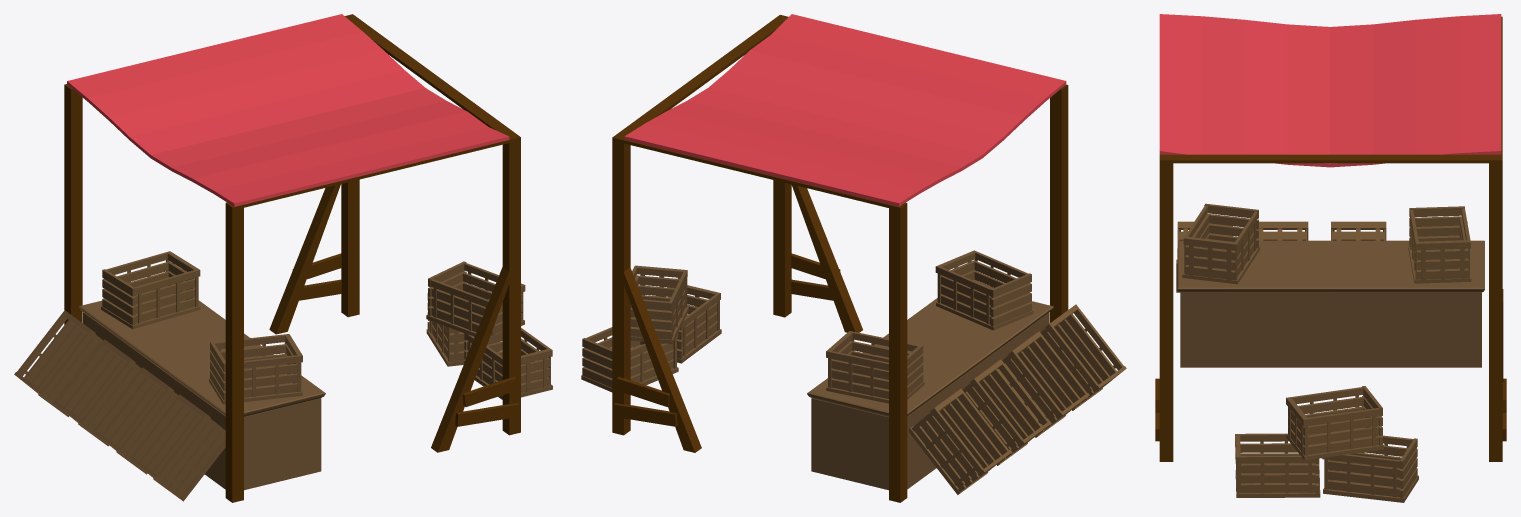
Rendered from Market Stall.fbx.
3 renders of one model, left to right at view 1: azimuth 30°, elevation 25°; view 2: azimuth 150°, elevation 25°; view 3: azimuth 270°, elevation 25°, orthographic. The views are drawn at different scales.
Parts seen in each view (by area): view 1: Cube, Market_Stall1:pCube1Market_Stall, pCube2, Market_Stall1:Market_StallpCube2, Market_Stall1:Market_StallpCube5, Top_and_Bottom_of_WagonpCube5.004, Top_and_Bottom_of_WagonpCube5.002, Top_and_Bottom_of_WagonpCube5.001, Top_and_Bottom_of_WagonpCube5.003, Top_and_Bottom_of_WagonpCube5, Wagon_Body:Top_and_Bottom_of_WagonpCube5, Market_Stall1:Market_StallpCube3 (+12 smaller); view 2: Cube, Market_Stall1:pCube1Market_Stall, pCube2, Market_Stall1:Market_StallpCube5, Market_Stall1:Market_StallpCube2, Top_and_Bottom_of_WagonpCube5.002, Top_and_Bottom_of_WagonpCube5.003, Top_and_Bottom_of_WagonpCube5.001, Top_and_Bottom_of_WagonpCube5.004, Wagon_Body:Top_and_Bottom_of_WagonpCube5, Top_and_Bottom_of_WagonpCube5, Market_Stall1:Market_StallpCube6 (+12 smaller); view 3: Cube, pCube2, Market_Stall1:pCube1Market_Stall, Top_and_Bottom_of_WagonpCube5.007, Top_and_Bottom_of_WagonpCube5.005, Wagon_Body:Top_and_Bottom_of_WagonpCube5, Top_and_Bottom_of_WagonpCube5, Top_and_Bottom_of_WagonpCube5.006, pCube3Top_and_Bottom_of_Wagon.005, Top_and_Bottom_of_WagonpCube1.005, Top_and_Bottom_of_WagonpCube2.005, Wagon_Body_LeftpCube1.007 (+17 smaller).
Part boxes in pixels (<box>): Cube: <box>67,14,509,206</box>; Market_Stall1:pCube1Market_Stall: <box>64,14,520,502</box>; pCube2: <box>78,300,325,490</box>; Market_Stall1:Market_StallpCube2: <box>431,267,509,452</box>; Market_Stall1:Market_StallpCube5: <box>269,184,340,334</box>; Top_and_Bottom_of_WagonpCube5.004: <box>132,394,210,478</box>; Top_and_Bottom_of_WagonpCube5.002: <box>56,339,135,424</box>; Top_and_Bottom_of_WagonpCube5.001: <box>17,310,95,394</box>; Top_and_Bottom_of_WagonpCube5.003: <box>95,367,173,451</box>; Top_and_Bottom_of_WagonpCube5: <box>106,251,200,294</box>; Wagon_Body:Top_and_Bottom_of_WagonpCube5: <box>214,334,302,368</box>; Market_Stall1:Market_StallpCube3: <box>455,403,519,426</box>; Cube: <box>624,14,1066,206</box>; Market_Stall1:pCube1Market_Stall: <box>612,15,1068,502</box>; pCube2: <box>807,298,1053,490</box>; Market_Stall1:Market_StallpCube5: <box>623,267,701,452</box>; Market_Stall1:Market_StallpCube2: <box>791,184,862,332</box>; Top_and_Bottom_of_WagonpCube5.002: <box>970,359,1048,443</box>; Top_and_Bottom_of_WagonpCube5.003: <box>1008,331,1086,415</box>; Top_and_Bottom_of_WagonpCube5.001: <box>930,388,1008,472</box>; Top_and_Bottom_of_WagonpCube5.004: <box>1045,304,1123,388</box>; Wagon_Body:Top_and_Bottom_of_WagonpCube5: <box>935,250,1028,295</box>; Top_and_Bottom_of_WagonpCube5: <box>826,331,919,370</box>; Market_Stall1:Market_StallpCube6: <box>613,403,677,426</box>; Cube: <box>1159,14,1501,167</box>; pCube2: <box>1177,240,1484,367</box>; Market_Stall1:pCube1Market_Stall: <box>1159,16,1502,461</box>; Top_and_Bottom_of_WagonpCube5.007: <box>1286,387,1379,426</box>; Top_and_Bottom_of_WagonpCube5.005: <box>1235,433,1315,463</box>; Wagon_Body:Top_and_Bottom_of_WagonpCube5: <box>1183,206,1257,250</box>; Top_and_Bottom_of_WagonpCube5: <box>1410,208,1470,250</box>; Top_and_Bottom_of_WagonpCube5.006: <box>1322,435,1413,467</box>; pCube3Top_and_Bottom_of_Wagon.005: <box>1241,483,1315,492</box>; Top_and_Bottom_of_WagonpCube1.005: <box>1241,464,1315,473</box>; Top_and_Bottom_of_WagonpCube2.005: <box>1241,473,1315,483</box>; Wagon_Body_LeftpCube1.007: <box>1288,397,1363,415</box>.
Bounding box in the file's own units: 1331 × 878 × 912.
